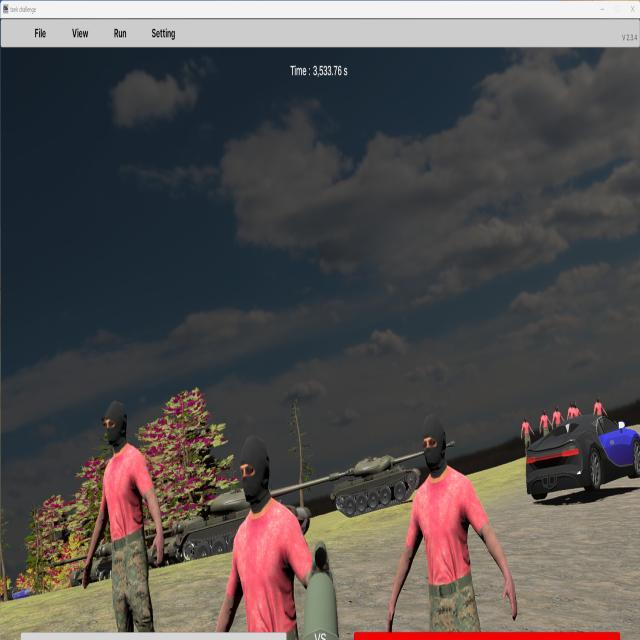Human: (388, 409, 517, 640), (213, 437, 323, 640), (84, 401, 165, 635)
Tank: (175, 472, 352, 560), (329, 445, 457, 518)
car: (525, 415, 640, 500)
